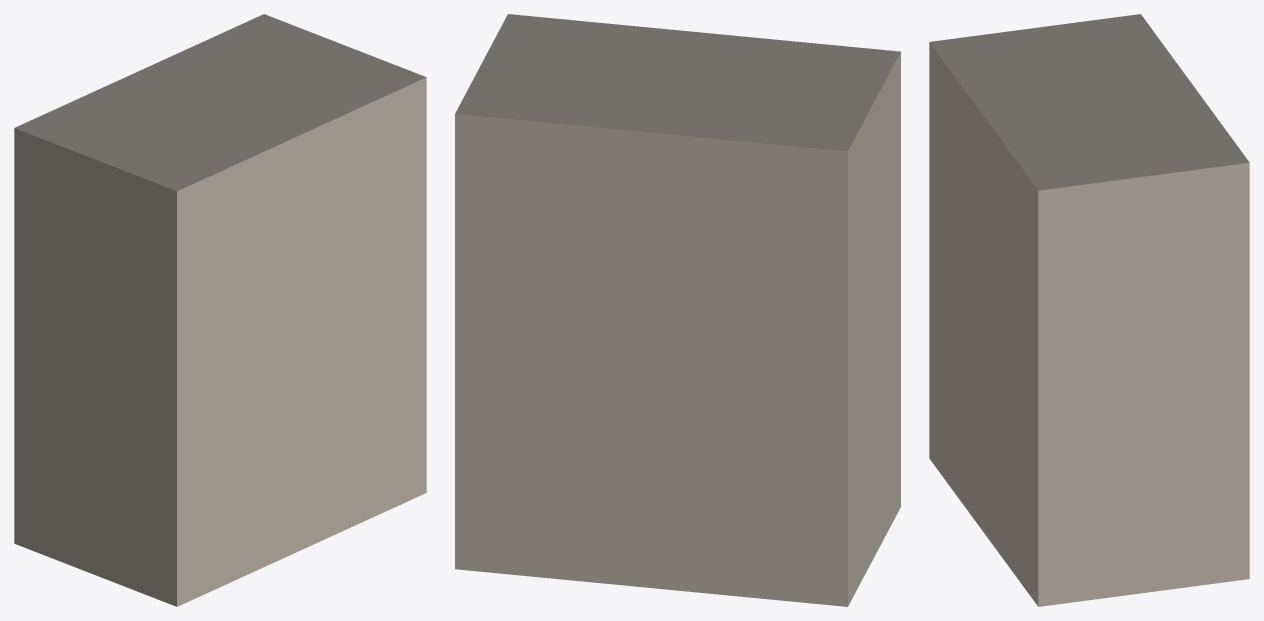
3 renders of one model, left to right at view 1: azimuth 30°, elevation 25°; view 2: azimuth 150°, elevation 25°; view 3: azimuth 270°, elevation 25°, orthographic. The views are drawn at different scales.
Visible parts, largest first — view 1: HP-w446933528; view 2: HP-w446933528; view 3: HP-w446933528.
Part boxes in pixels (x1,y1,x2,y2): HP-w446933528: (14,14,426,606); HP-w446933528: (455,14,900,606); HP-w446933528: (929,14,1249,606).
Bounding box in the file's own units: 16.38 × 18 × 12.56.
